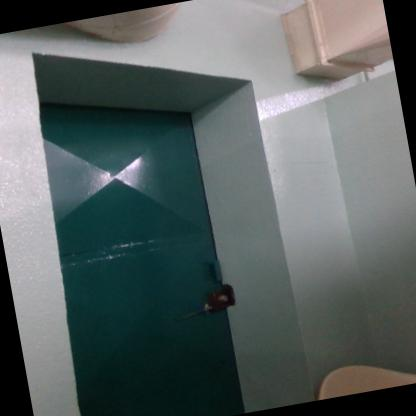closed: (9, 62, 276, 415)
